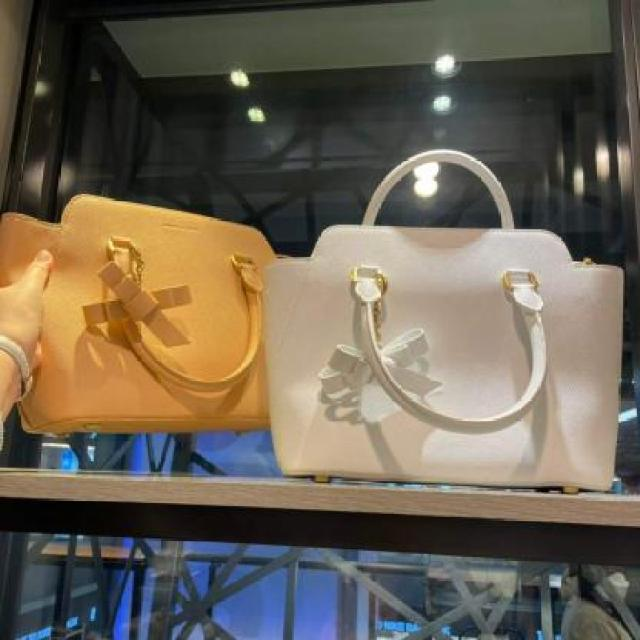Bag: (204, 87, 640, 543), (0, 118, 289, 496)
